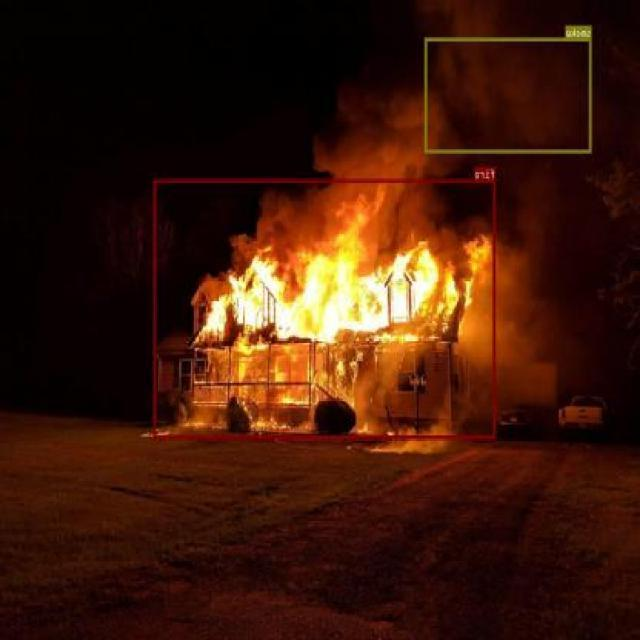Fire: (170, 188, 502, 374)
Smoke: (304, 0, 618, 173)
